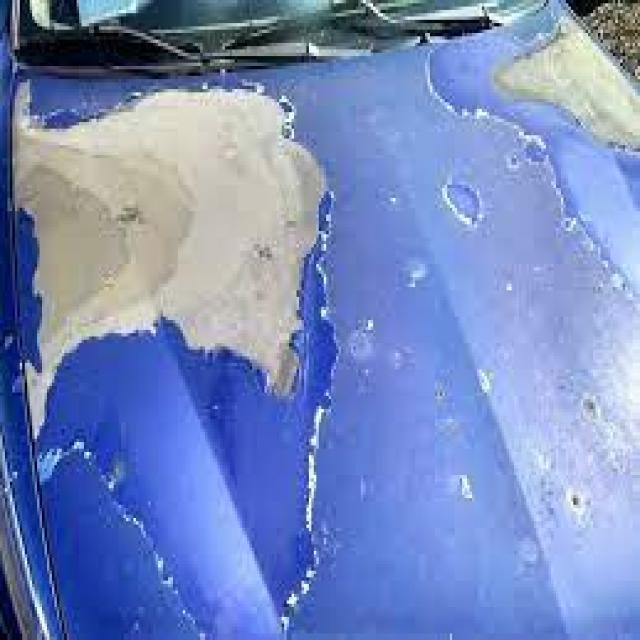paint-chip: (3, 73, 331, 640), (403, 29, 640, 337)
